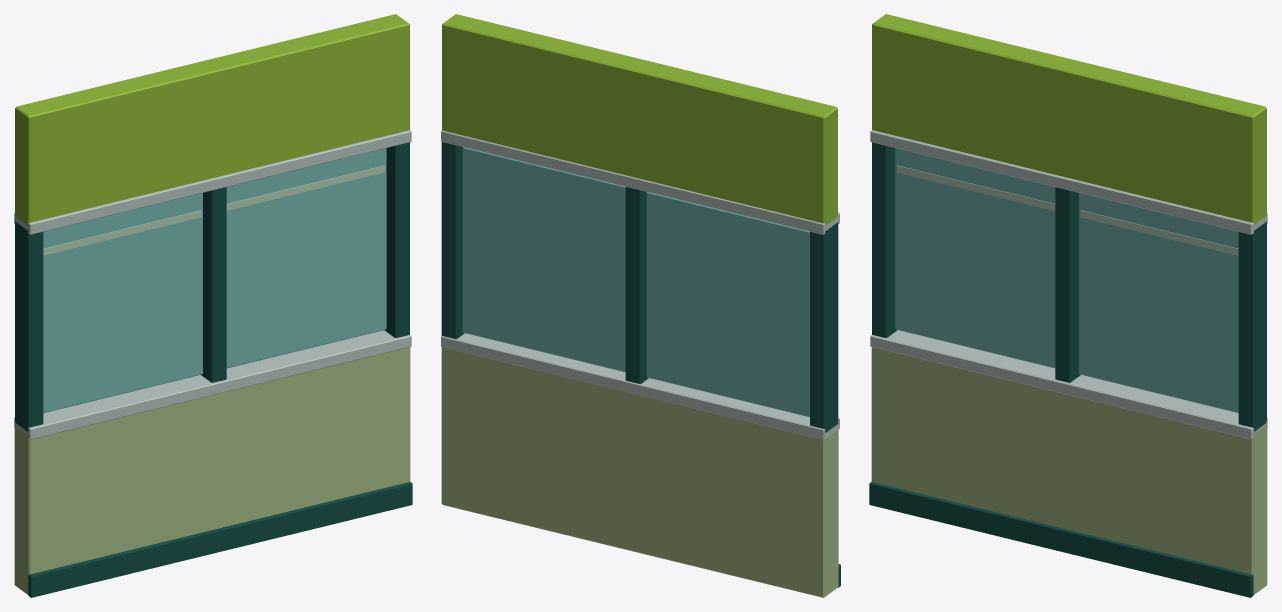
File: wall_gallery.glb
3 renders of one model, left to right at view 1: azimuth 30°, elevation 25°; view 2: azimuth 150°, elevation 25°; view 3: azimuth 330°, elevation 25°, orthographic.
Visible parts, largest first — view 1: Peitoril verde, Faixa verde.001, Vidro fosco.001, Vidro fosco, Rodapé.001, Travessa, Montante, Travessa.001, Montante.001, Montante.002, Reflexo no vidro, Reflexo no vidro.001; view 2: Peitoril verde, Faixa verde.001, Vidro fosco.001, Vidro fosco, Travessa, Montante, Travessa.001, Montante.001, Montante.002; view 3: Peitoril verde, Faixa verde.001, Vidro fosco, Vidro fosco.001, Rodapé.001, Travessa, Montante.002, Travessa.001, Montante.001, Montante, Reflexo no vidro.001, Reflexo no vidro.
Part boxes in pixels (x1,y1,x2,y2): Peitoril verde: (14,347,410,594); Faixa verde.001: (15,14,409,224); Vidro fosco.001: (226,148,386,368); Vidro fosco: (43,193,202,412); Rodapé.001: (28,481,412,597); Travessa: (14,330,411,439); Montante: (15,221,43,431); Travessa.001: (14,130,411,234); Montante.001: (201,187,226,382); Montante.002: (384,142,409,337); Reflexo no vidro: (43,210,201,255); Reflexo no vidro.001: (226,165,384,210); Peitoril verde: (441,347,838,597); Faixa verde.001: (442,14,837,225); Vidro fosco.001: (462,147,625,372); Vidro fosco: (646,192,809,417); Travessa: (441,333,839,440); Montante: (810,222,838,432); Travessa.001: (441,130,839,234); Montante.001: (625,187,648,383); Montante.002: (441,142,464,338); Peitoril verde: (871,347,1267,594); Faixa verde.001: (872,14,1266,224); Vidro fosco: (895,148,1055,368); Vidro fosco.001: (1079,193,1238,412); Rodapé.001: (869,481,1253,597); Travessa: (870,330,1267,439); Montante.002: (1238,221,1266,431); Travessa.001: (870,130,1267,234); Montante.001: (1055,187,1080,382); Montante: (872,142,897,337); Reflexo no vidro.001: (1080,210,1238,255); Reflexo no vidro: (897,165,1055,210).
Size of the model in its own units: 2.5 by 3 by 0.1955.
